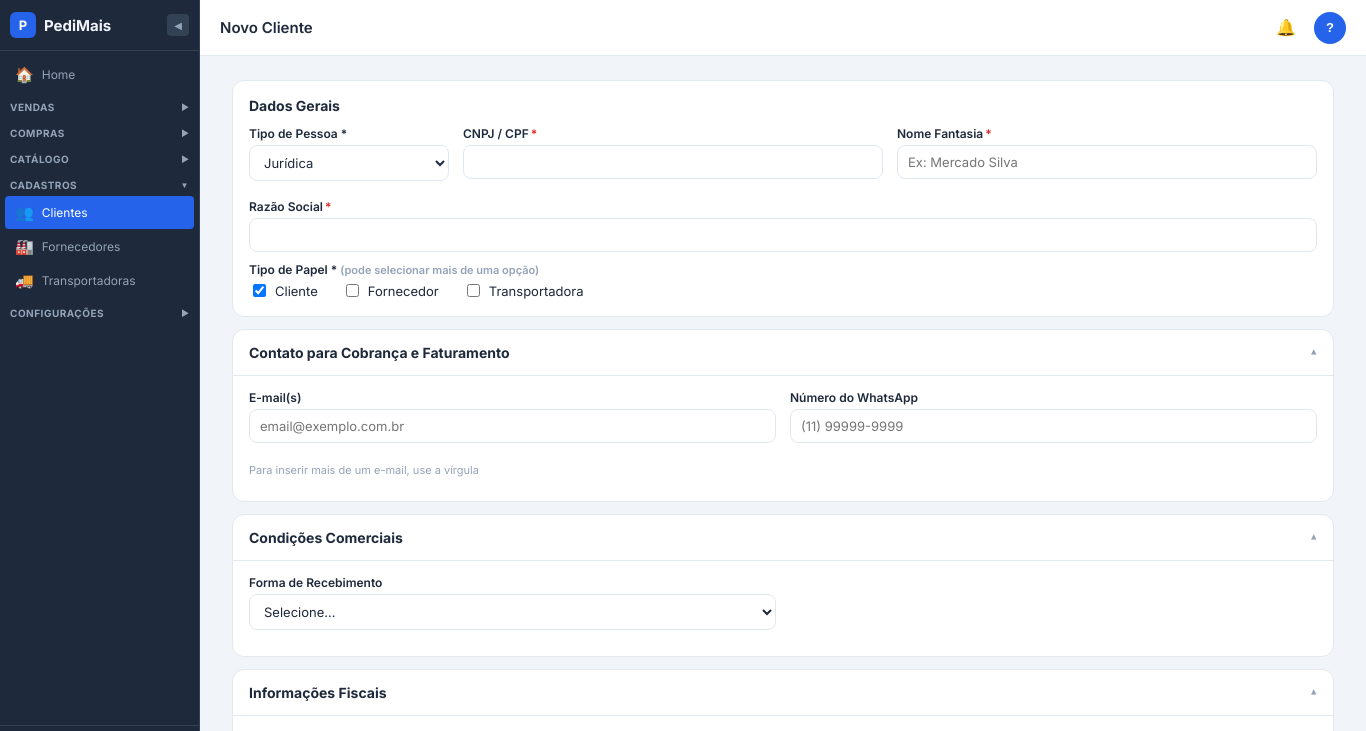
Test: ClienteFormView › masks the WhatsApp field as a phone number while typing
The width and height of the screenshot is (1366, 731).
Type "11933334444" into the field with placeholder "(11) 99999-9999".
click(1054, 426); type("11933334444")  # box x1=790 y1=409 x2=1317 y2=443
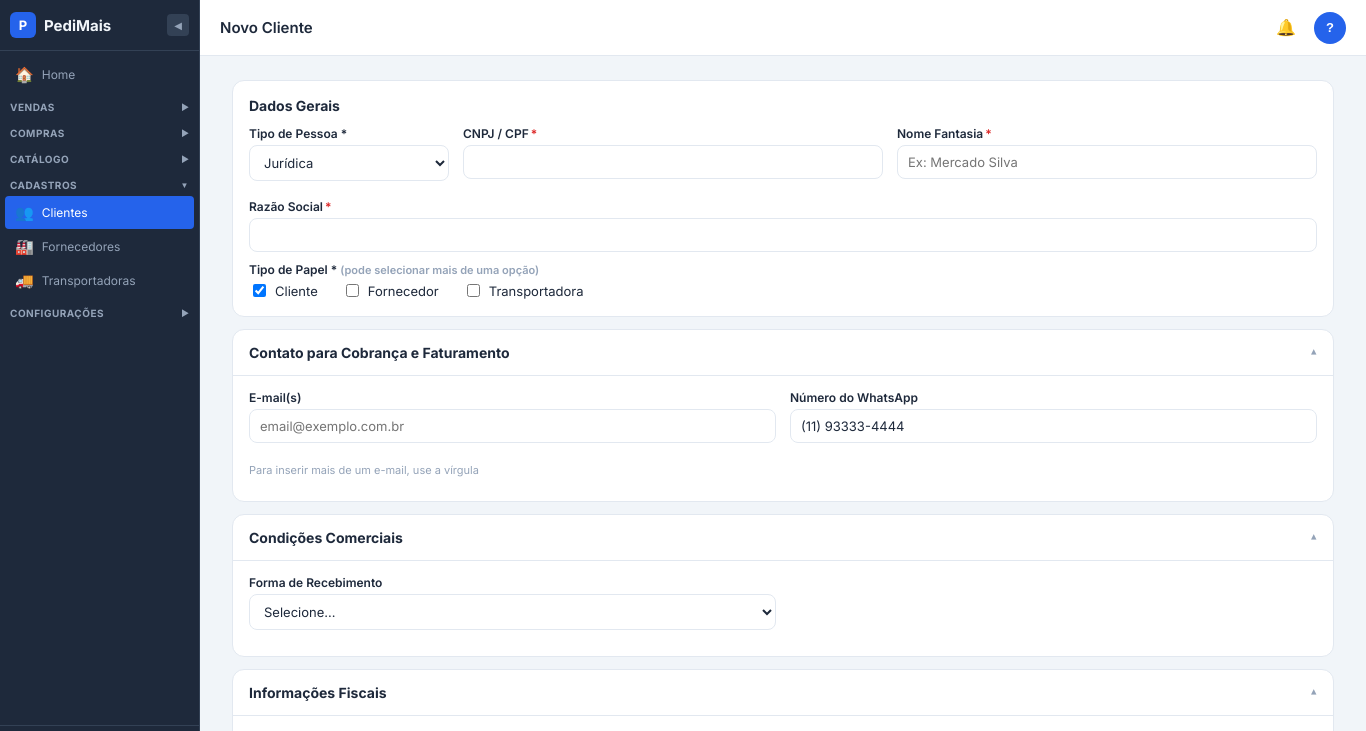
Expected: the field below "Número do WhatsApp" holds "(11) 93333-4444", x1=790 y1=409 x2=1317 y2=443
